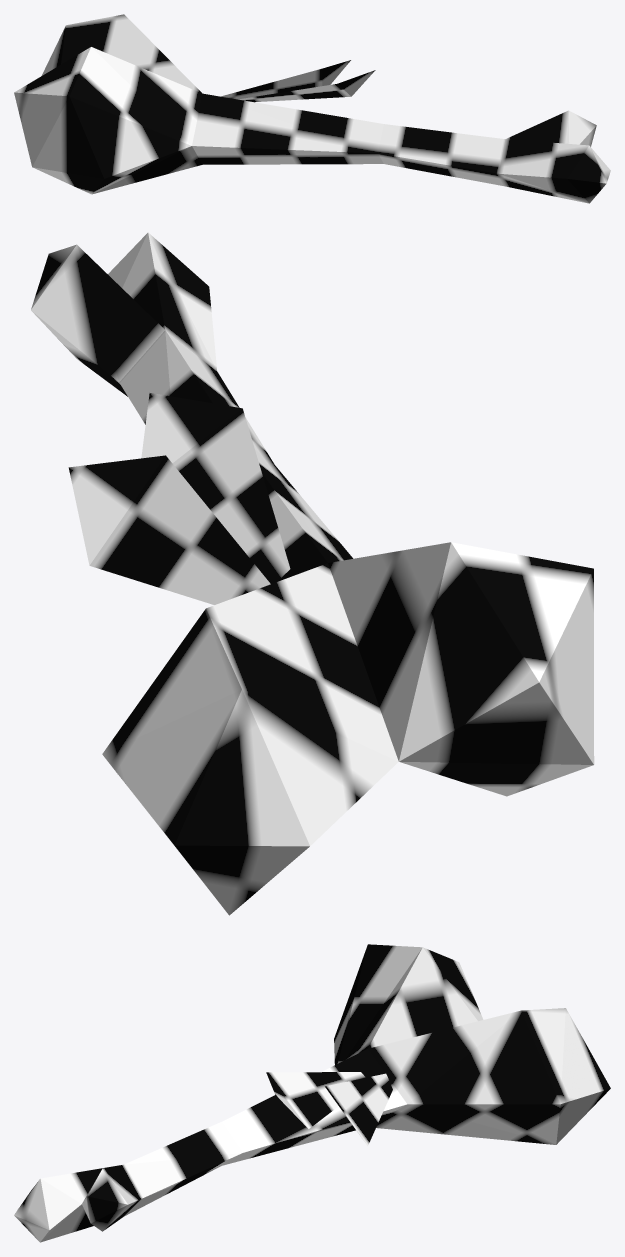
File: initwehm1.dae
The picture shows the model from 3 angles, top to bottom: view 1: azimuth 30°, elevation 25°; view 2: azimuth 150°, elevation 25°; view 3: azimuth 270°, elevation 25°; orthographic projection. The views are drawn at different scales.
Parts seen in each view (by area): view 1: weapon; view 2: weapon; view 3: weapon.
Boxes of the visible parts, x1,y1,x2,y2 form: weapon: (14, 14, 610, 203); weapon: (31, 232, 594, 915); weapon: (14, 944, 610, 1242).
Bounding box in the file's own units: 1.69 × 1.89 × 0.5958.
1 material, 1 textured.
